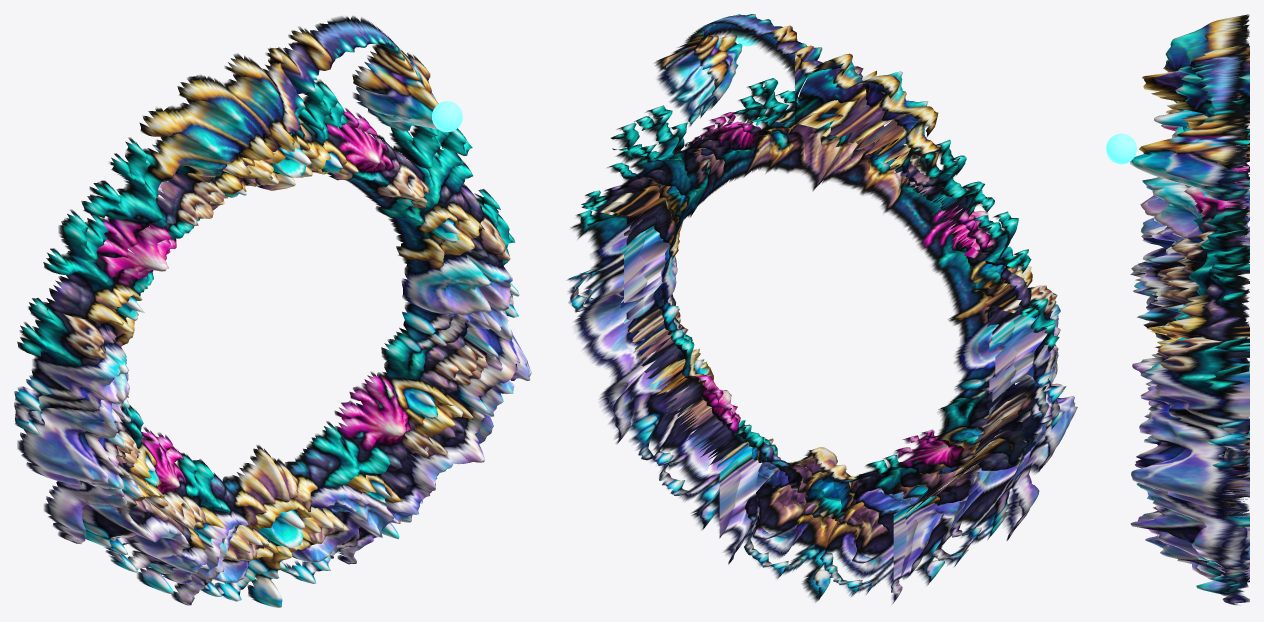
The model's file is epic_abyss.glb.
The picture shows the model from 3 angles, left to right: view 1: azimuth 30°, elevation 25°; view 2: azimuth 150°, elevation 25°; view 3: azimuth 270°, elevation 25°; orthographic projection.
Visible parts, largest first — view 1: Ring, JellyL, Crest, Lure, JellyR, LureBall; view 2: Ring, JellyR, JellyL, Crest, Lure; view 3: JellyR, Ring, Lure, JellyL, Crest, LureBall.
Boxes of the visible parts, left/top/right/bottom form: Ring: left=28, top=122, right=500, bottom=607; JellyL: left=14, top=308, right=210, bottom=593; Crest: left=47, top=48, right=304, bottom=265; Lure: left=270, top=16, right=472, bottom=168; JellyR: left=372, top=197, right=531, bottom=539; LureBall: left=432, top=101, right=462, bottom=132; Ring: left=581, top=109, right=1048, bottom=603; JellyR: left=567, top=195, right=744, bottom=538; JellyL: left=893, top=285, right=1077, bottom=585; Crest: left=794, top=51, right=1028, bottom=267; Lure: left=610, top=14, right=822, bottom=159; JellyR: left=1130, top=326, right=1249, bottom=595; Ring: left=1150, top=92, right=1249, bottom=604; Lure: left=1130, top=43, right=1249, bottom=272; JellyL: left=1130, top=128, right=1249, bottom=497; Crest: left=1142, top=14, right=1249, bottom=119; LureBall: left=1106, top=133, right=1136, bottom=164.
Bounding box in the file's own units: 1.32 × 1.45 × 0.336.
2 materials, 1 textured.
